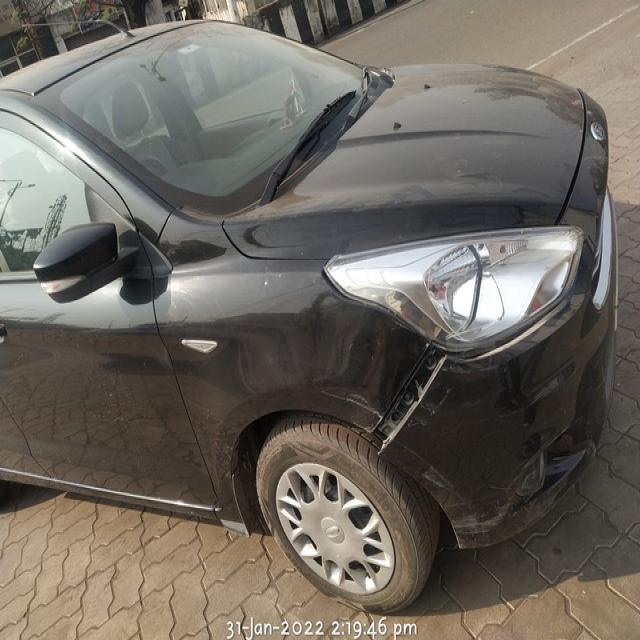damage: (318, 302, 408, 429), (376, 330, 449, 471)
